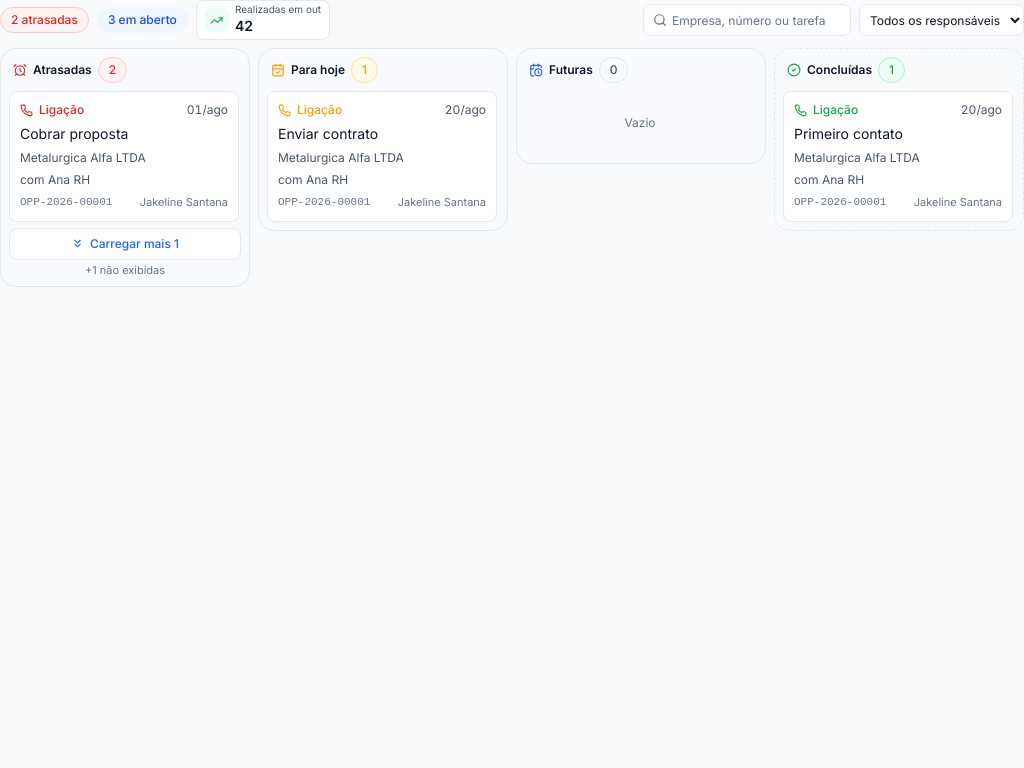
Test: Tarefas — o detalhe › com outra tarefa aberta no alvo, não pede a próxima
Expected: the text "Cobrar proposta" is shown, top-left (20, 125), bottom-right (128, 142)
Click the button "Cobrar proposta".
click(124, 156)  # box top-left (9, 91), bottom-right (239, 222)
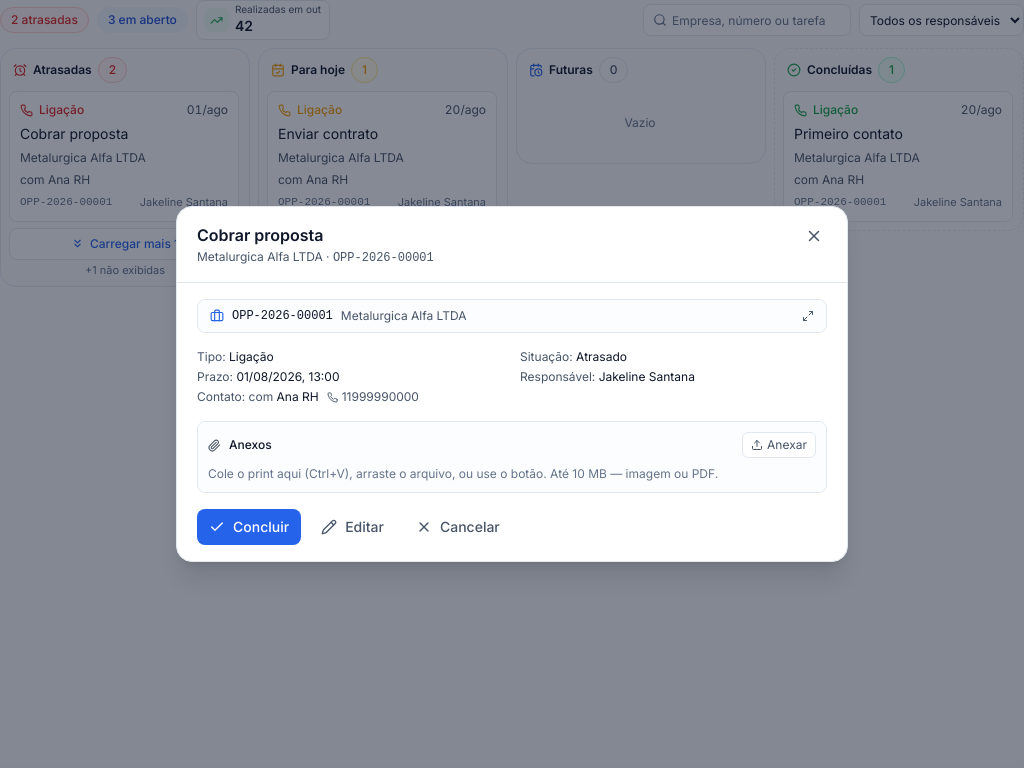
Click the button with aria-label "Concluir Cobrar proposta".
click(249, 527)  # box top-left (197, 509), bottom-right (301, 545)
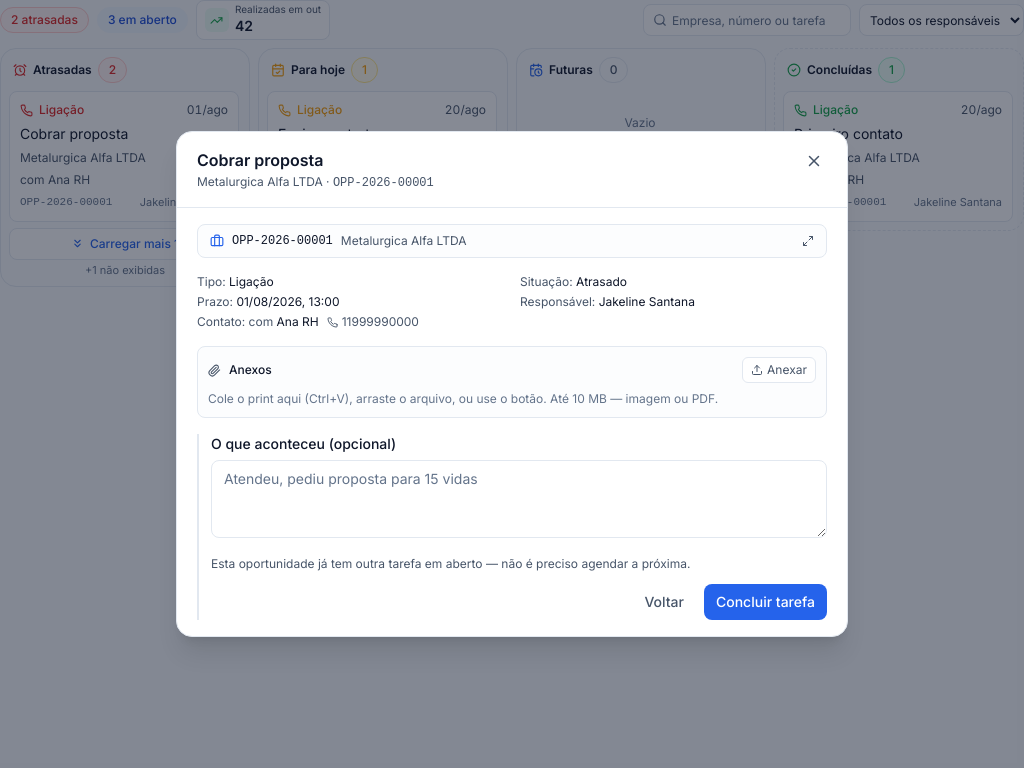
Expected: the text "já tem outra tarefa em aberto" is shown, top-left (211, 556), bottom-right (690, 571)
Expected: the button "Concluir tarefa" is enabled, top-left (704, 584), bottom-right (827, 620)
